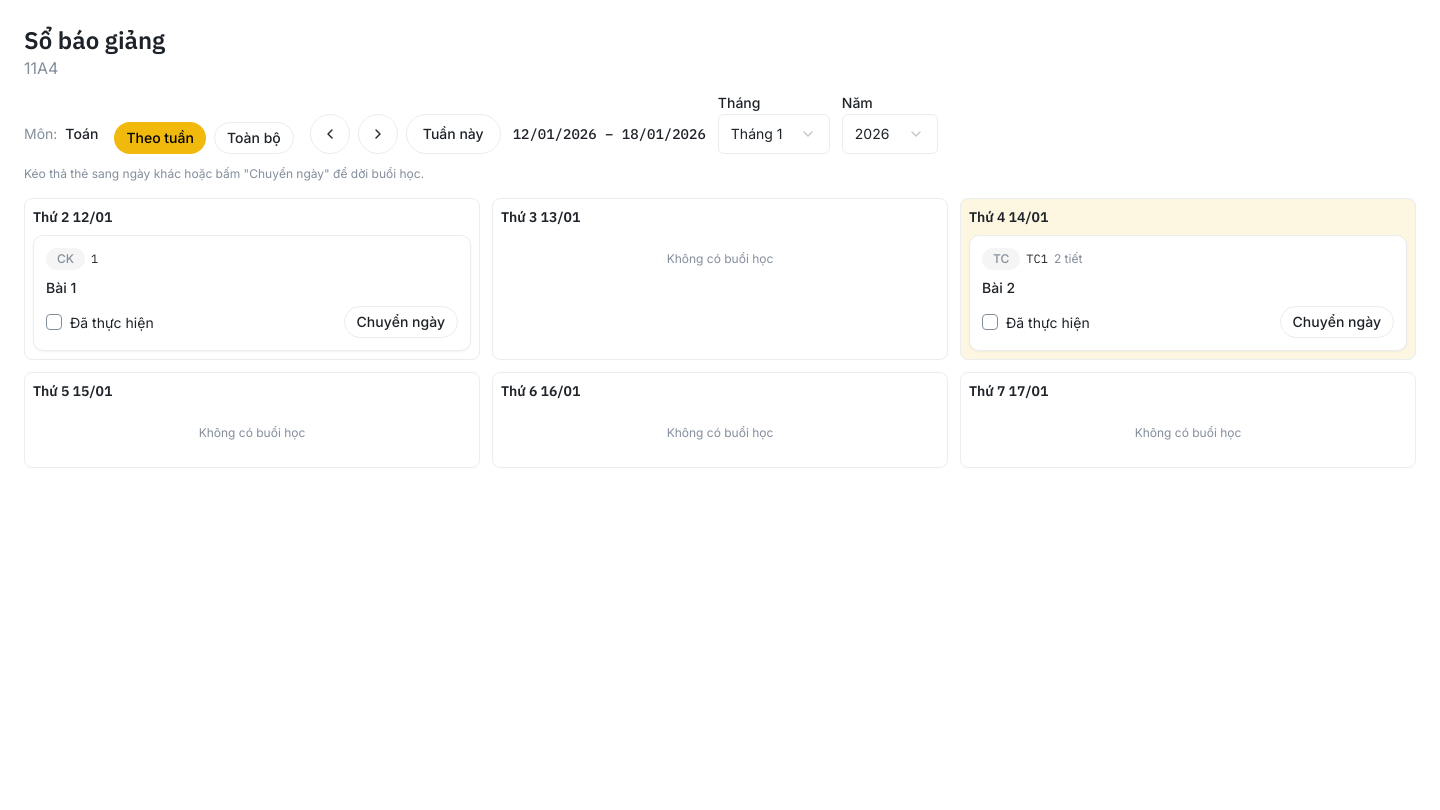
Scenario: chuyển ngày bằng hộp thoại › (f) 409 → message nguyên văn trong hộp thoại (chỉ hiện một lần), hộp thoại giữ, bảng không đổi, không có thông báo thành công
This screenshot has width=1440, height=810.
Click the button "Chuyển ngày" below "Thứ 2 12/01" at (401, 322), box 344,306 -> 458,338
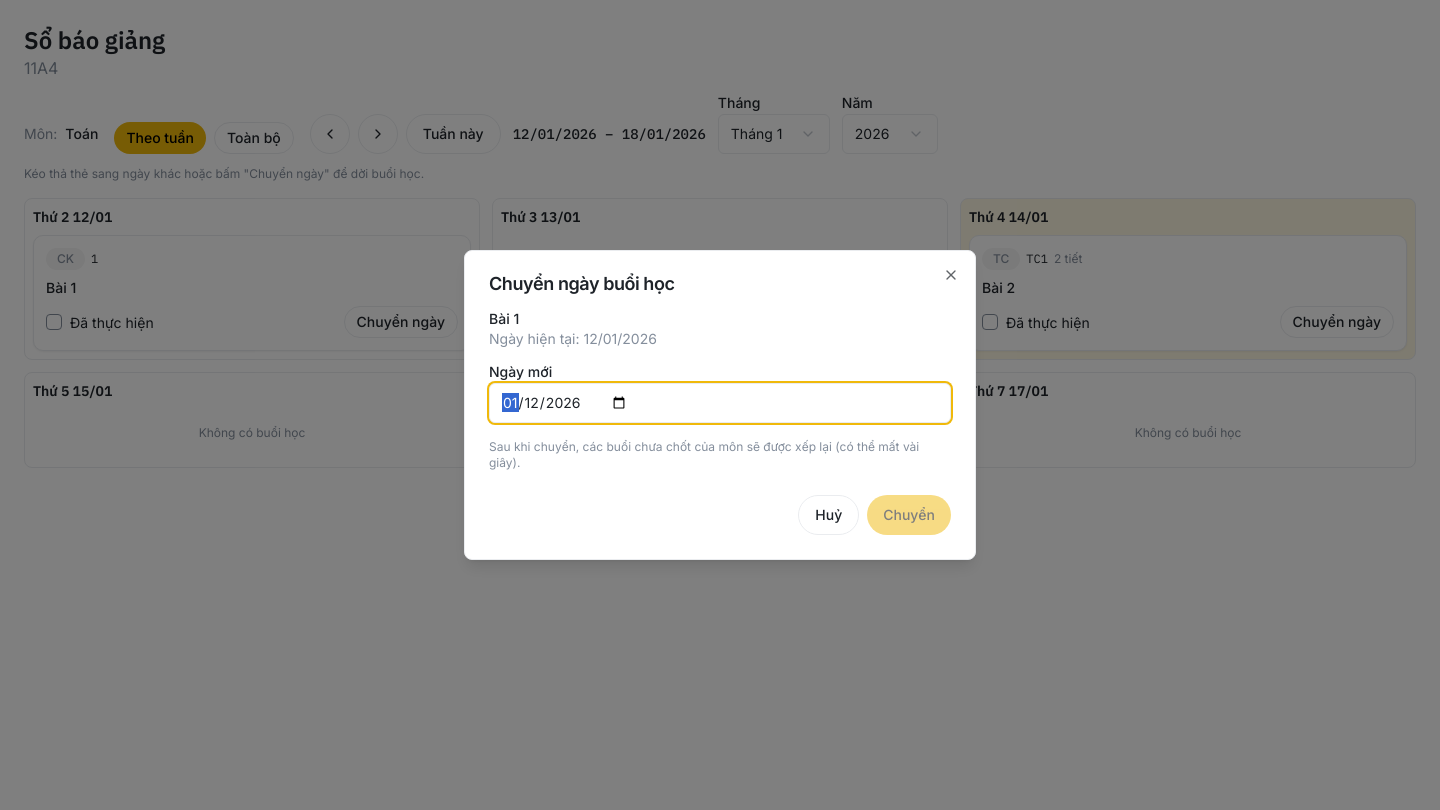
Type "2026-01-14" into the date field labelled "Ngày mới" at (720, 403), box 489,383 -> 951,423
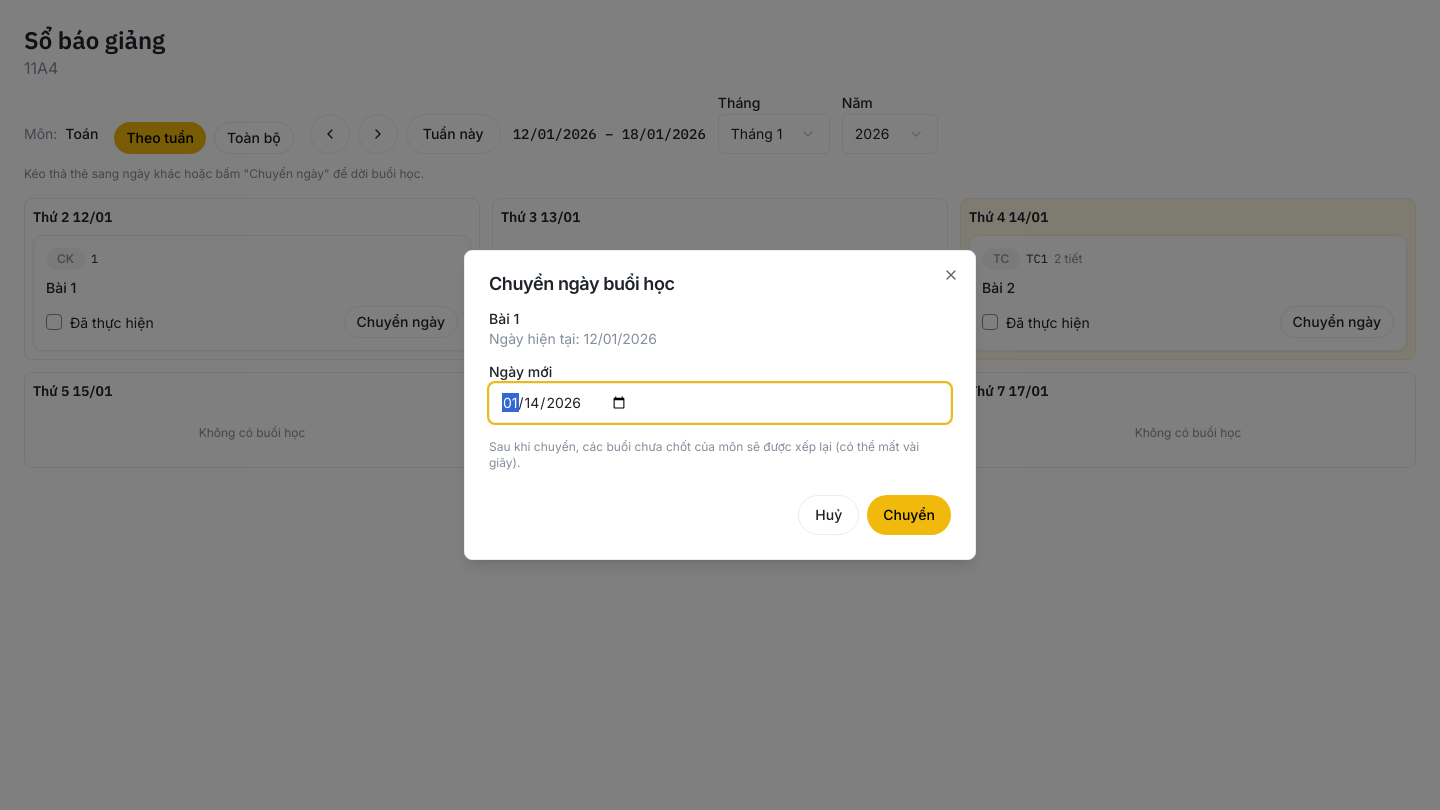
Click the button "Chuyển" at (909, 515), box 867,495 -> 951,535
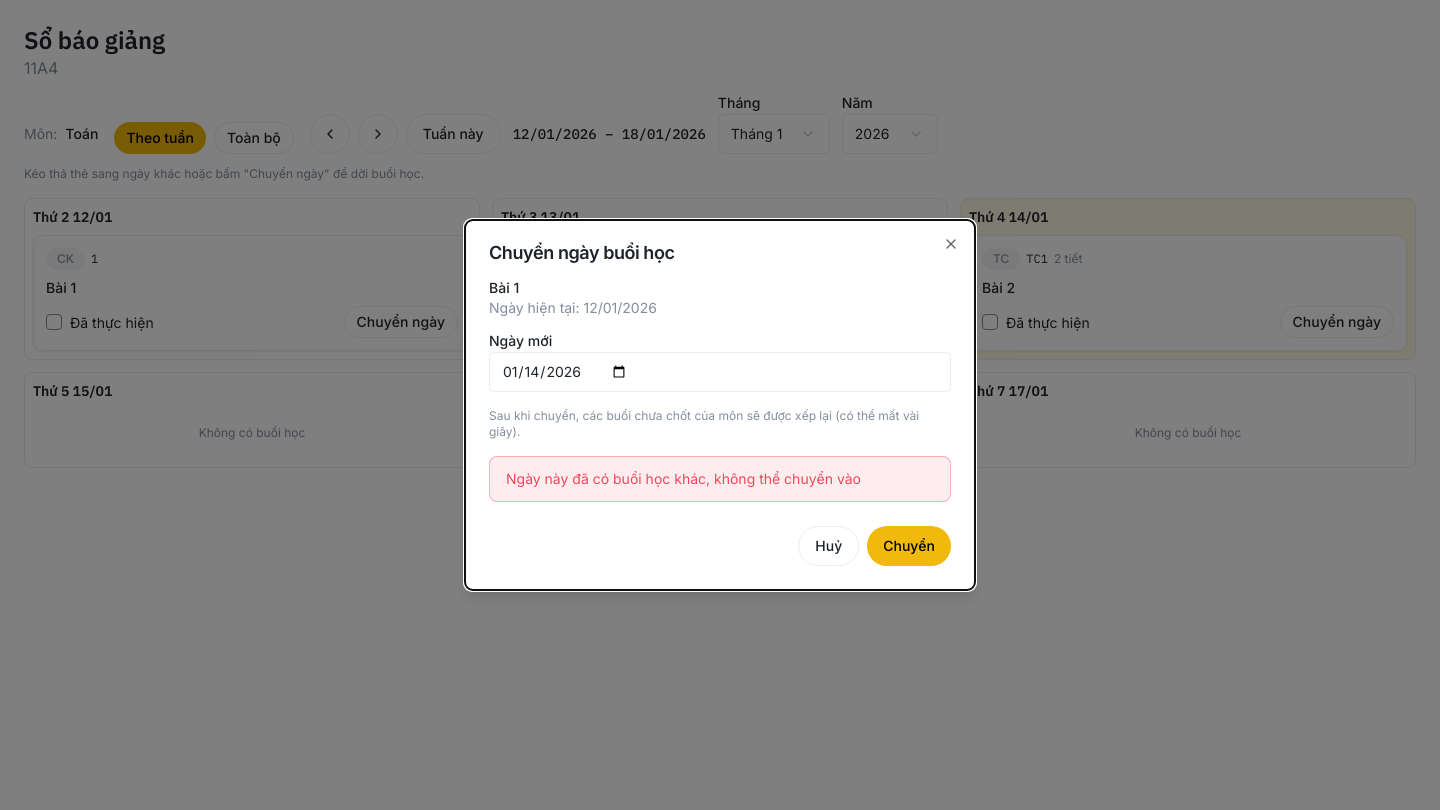
expect the text "Bài 1" below "CK" is shown: met, box 46,279 -> 76,296
expect the dialog is shown: met, box 464,219 -> 976,591
expect the text "Ngày này đã có buổi học khác, không thể chuyển vào" is shown once: met, box 506,470 -> 861,487
